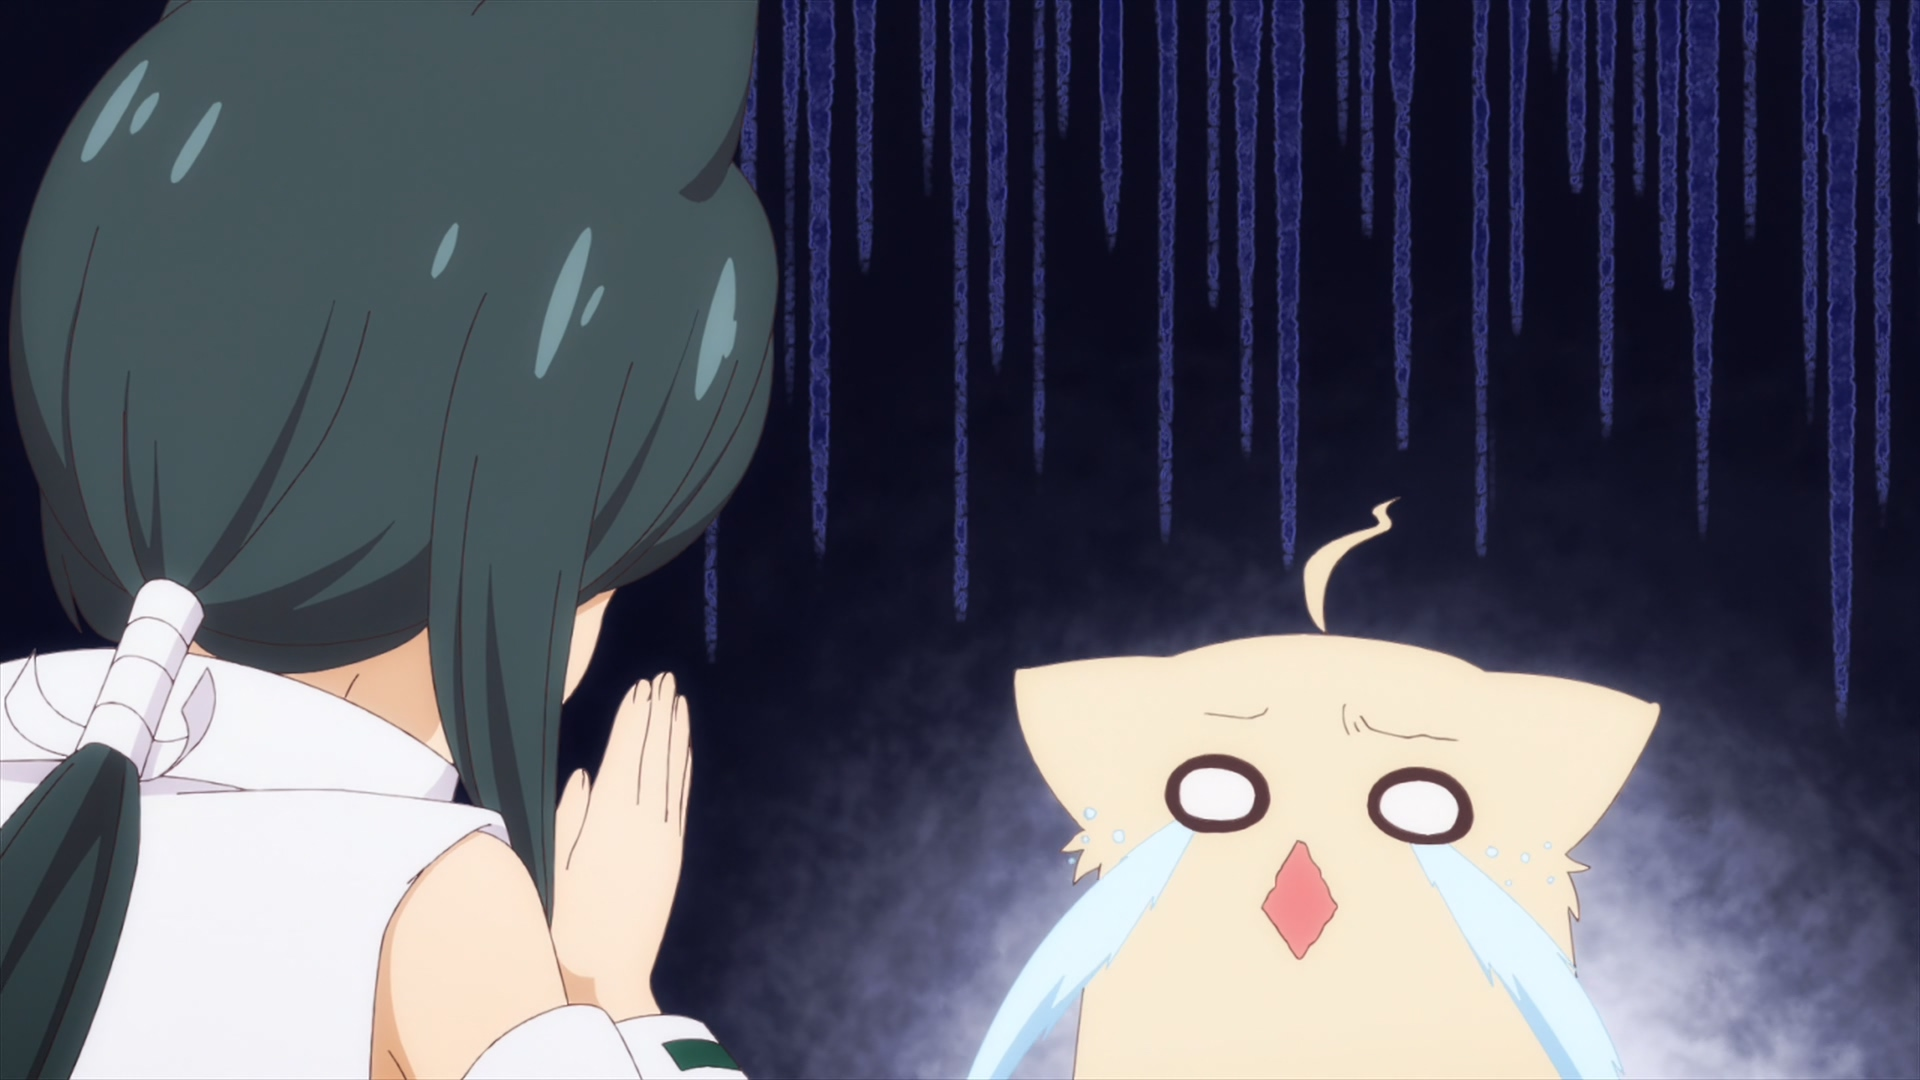其他: (1, 1, 782, 1080)
柚: (1011, 495, 1660, 1080)
